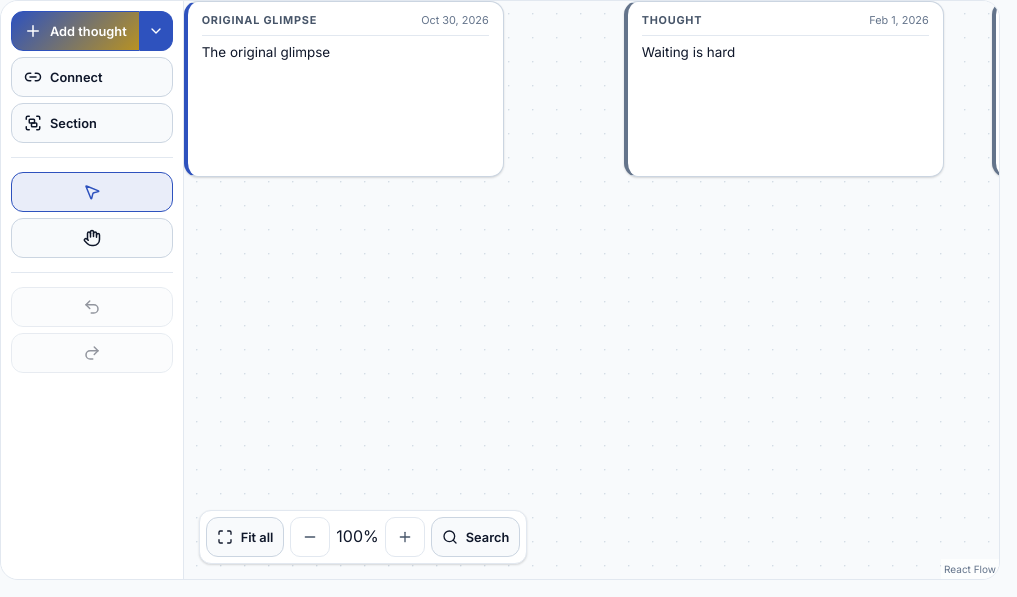
adding thoughts › starts on the kind chosen from the Add menu
Click the button named "Choose a type of thought".
click(156, 31)  # box [140, 11, 173, 51]
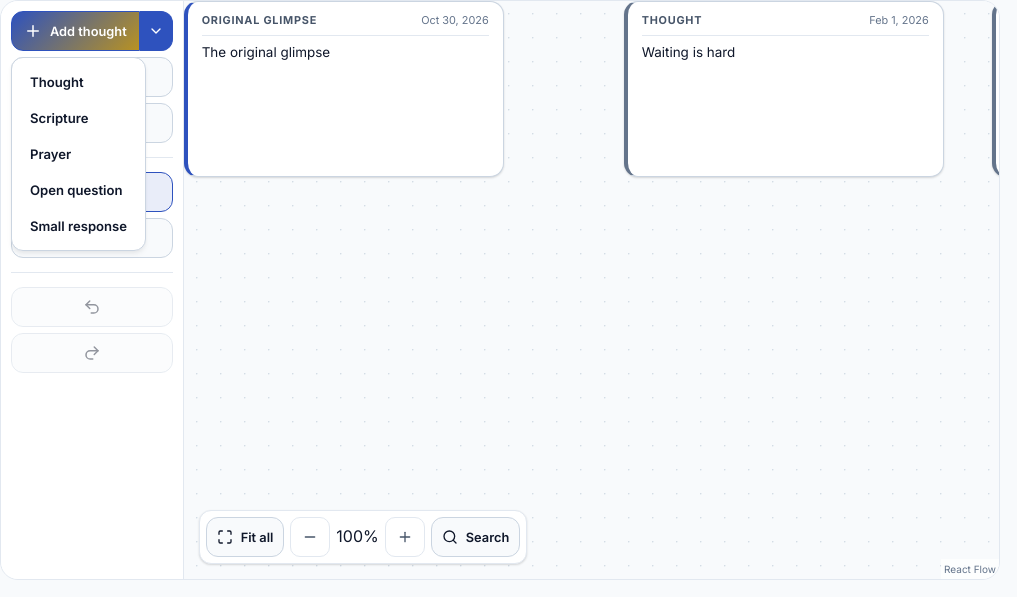
Click the menu item "Prayer".
click(78, 154)  # box [18, 136, 139, 172]
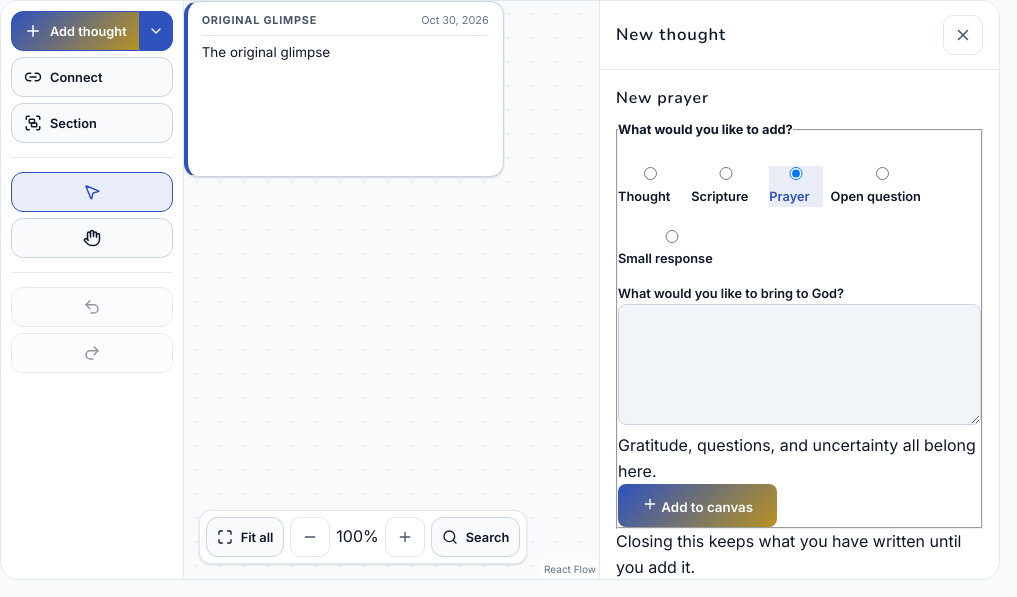
Now the radio button labelled "Prayer" is checked, box [769, 167, 823, 180]
